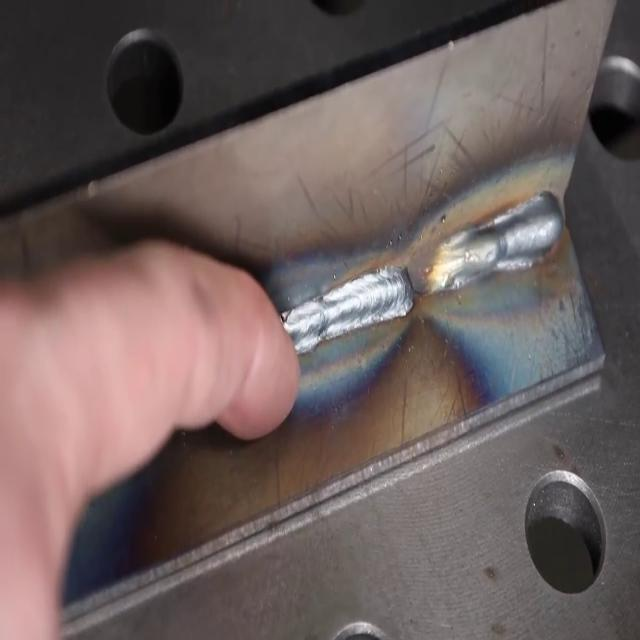Bad Welding: (284, 267, 414, 353)
Good Welding: (409, 191, 564, 293)
